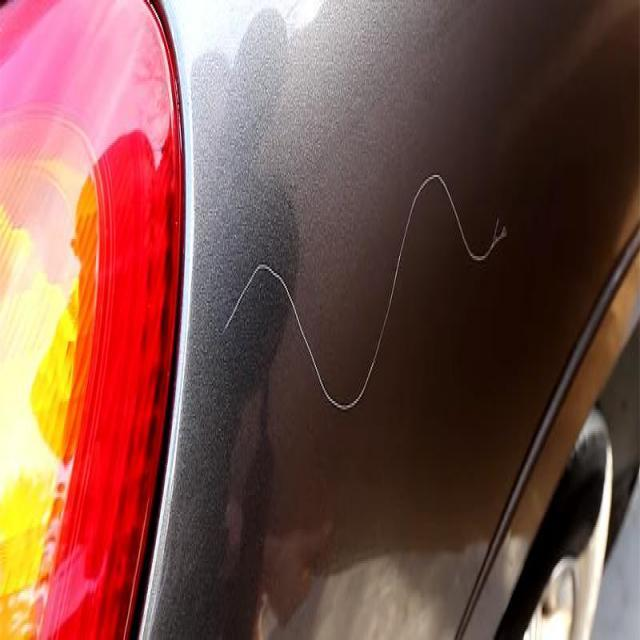scratch: (218, 126, 516, 424)
